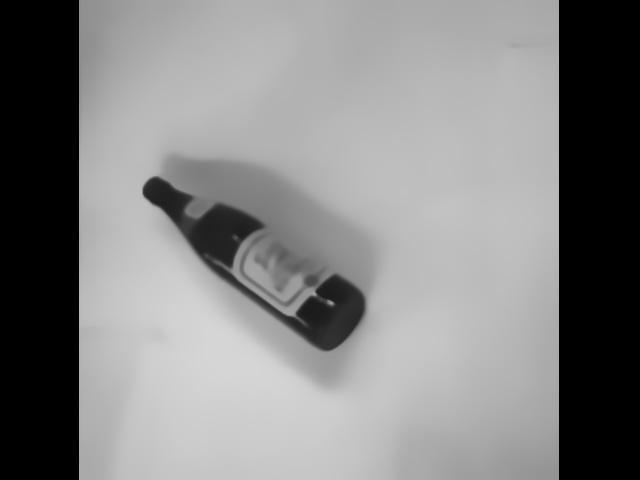Glass: (140, 176, 372, 354)
